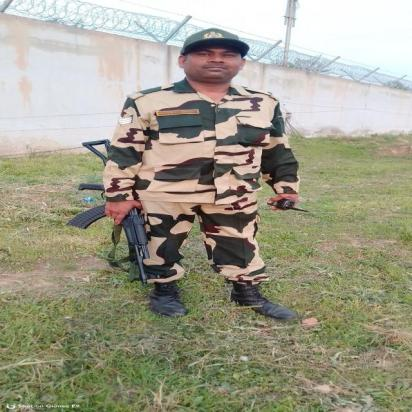Gun: (64, 138, 154, 287)
